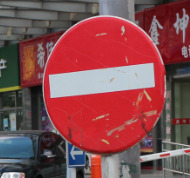no_entry: (42, 16, 167, 154)
